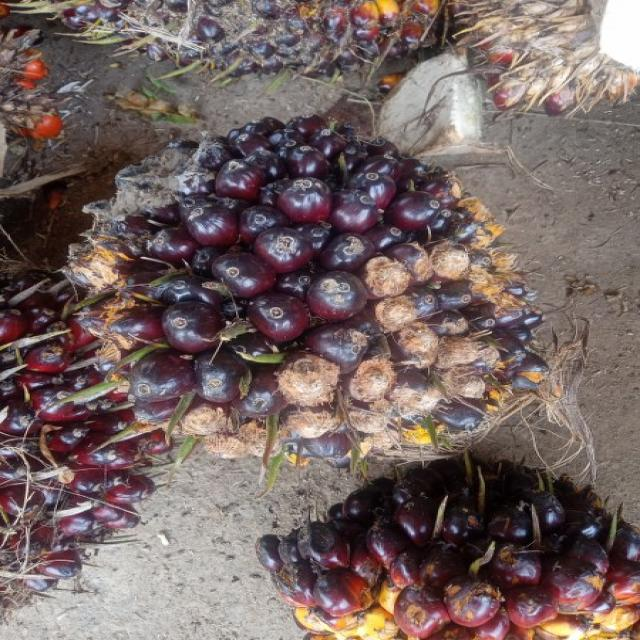fraksi 00: (63, 114, 547, 434)
